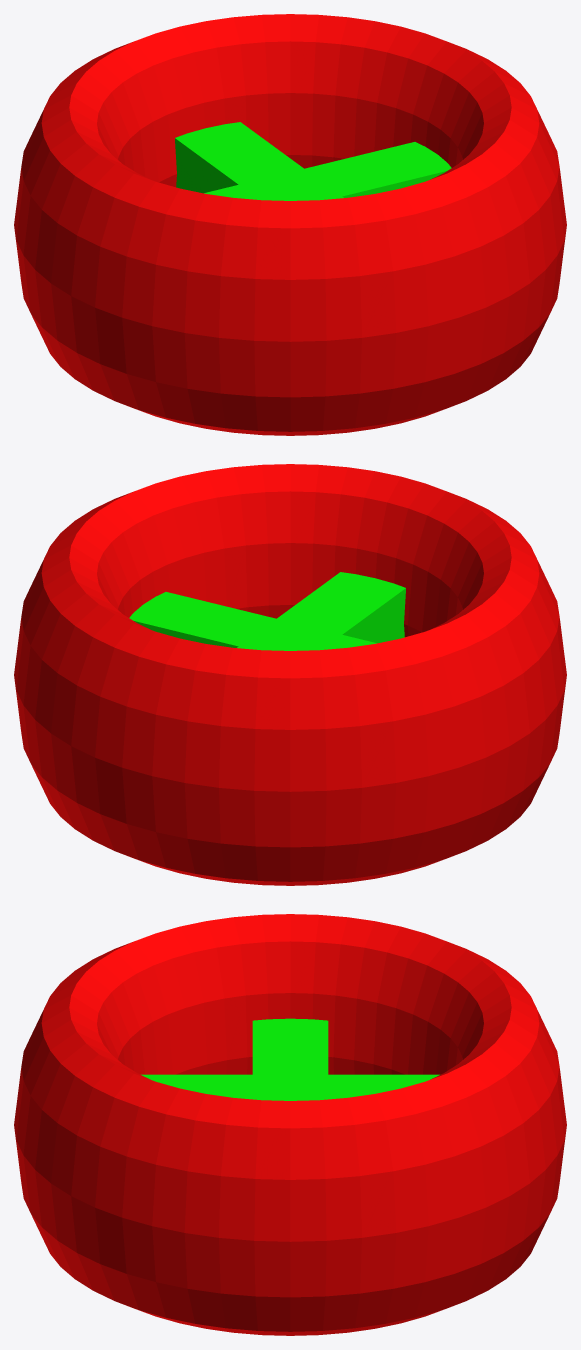
File: SM_Kart_Wheel_3.fbx
3 views of the same model, one above another, from view 1: azimuth 30°, elevation 25°; view 2: azimuth 150°, elevation 25°; view 3: azimuth 270°, elevation 25° (orthographic).
Parts seen in each view (by area): view 1: SM_Kart_Wheels_3; view 2: SM_Kart_Wheels_3; view 3: SM_Kart_Wheels_3.
Boxes of the visible parts, <box> form: SM_Kart_Wheels_3: <box>14,14,566,435</box>; SM_Kart_Wheels_3: <box>14,464,566,885</box>; SM_Kart_Wheels_3: <box>14,914,566,1335</box>.
Size of the model in its own units: 133 by 62.53 by 133.
